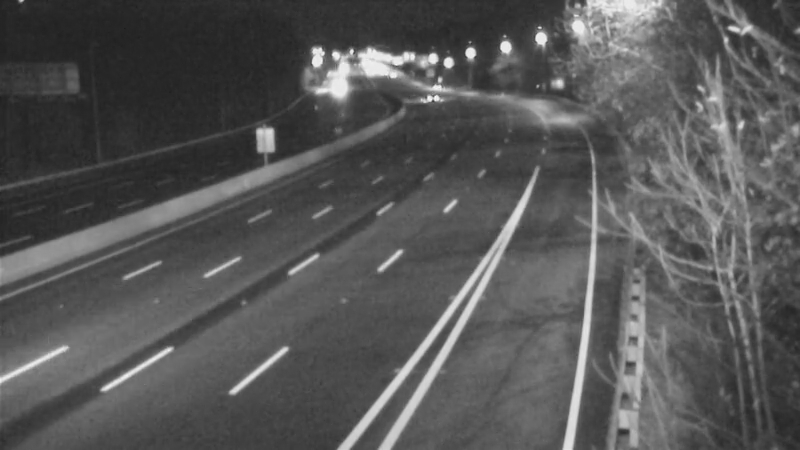vehicle: (408, 75, 458, 125)
